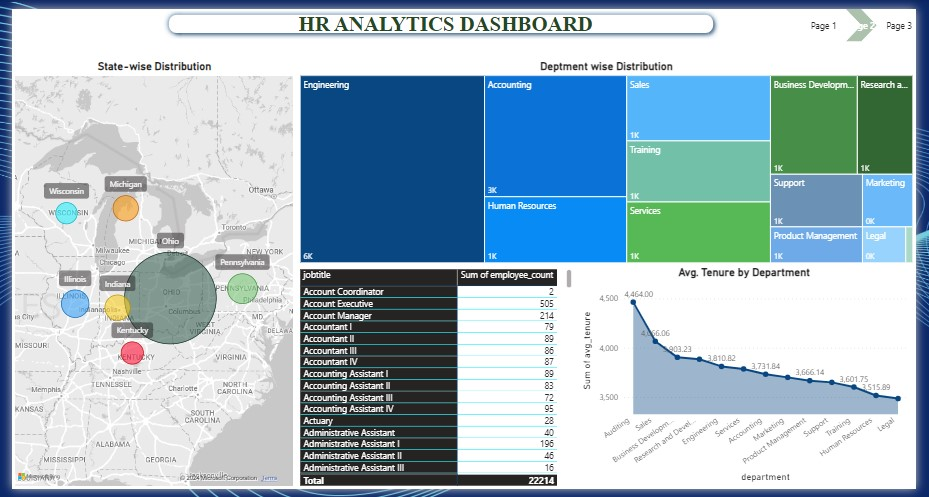

Layout of this report page (visuals, bound fields, positions):
{"tool":"powerbi","page":{"name":"Page 2","canvas":[1390,738],"ordinal":1},"visuals":[{"type":"shape","box":[231.8,0,855.4,46],"z":0,"group":"g1"},{"type":"textbox","box":[261.1,0,810.8,52.3],"z":1000,"group":"g1"},{"type":"map","title":"State-wise Distribution","fields":{"Size":["Sum(state.count)"],"Category":["state.location_state"]},"box":[0,78.5,438.5,660],"z":2000,"group":"g1"},{"type":"treemap","title":"Deptment wise Distribution","fields":{"Values":["Sum(dept_gender.count)"],"Group":["dept_gender.department"]},"box":[438.5,78.5,952.3,316.9],"z":3000,"group":"g1"},{"type":"pivotTable","fields":{"Rows":["jobtitle_emp.jobtitle"],"Values":["Sum(jobtitle_emp.employee_count)"]},"box":[438.5,395.4,427.7,343.1],"z":4000,"group":"g1"},{"type":"stackedAreaChart","title":"Avg. Tenure by Department","fields":{"Category":["dept Tenure.department"],"Y":["Sum(dept Tenure.avg_tenure)"]},"box":[866.2,395.4,524.6,343.1],"z":5000,"group":"g1"},{"type":"group","id":"g1","title":"Group 1","box":[0,0,1390.8,738.5],"z":5001},{"type":"pageNavigator","box":[1223.8,0,166.2,50.8],"z":5002}]}

Visuals, with their boxes in screenshot pixels (x1, y1, x2, y2), scaled from the page's 1390x738 canvas onto the 929x497 screenshot:
shape: 155,0,727,31
textbox: 175,0,716,35
"State-wise Distribution" map: 0,53,293,496
"Deptment wise Distribution" treemap: 293,53,928,266
pivotTable - jobtitle_emp.jobtitle x Sum(jobtitle_emp.employee_count): 293,266,579,496
"Avg. Tenure by Department" stackedAreaChart: 579,266,928,496
"Group 1" group: 0,0,928,496
pageNavigator: 818,0,928,34
